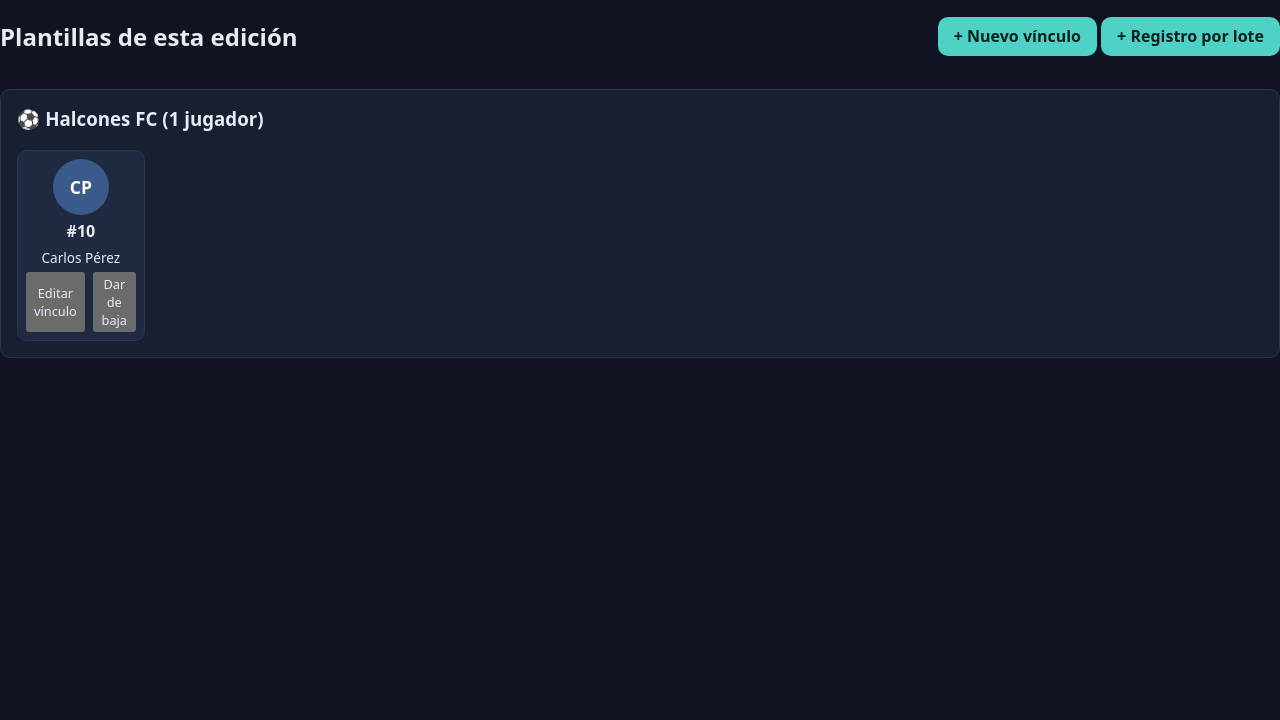
Scenario: PlantillasDelTorneoPage — grid de tarjetas (Design sección D) › click en una tarjeta abre el Perfil de Jugador editable en un modal
Click the button "CP #10 Carlos Pérez" at (81, 213), box [26,158,136,267]
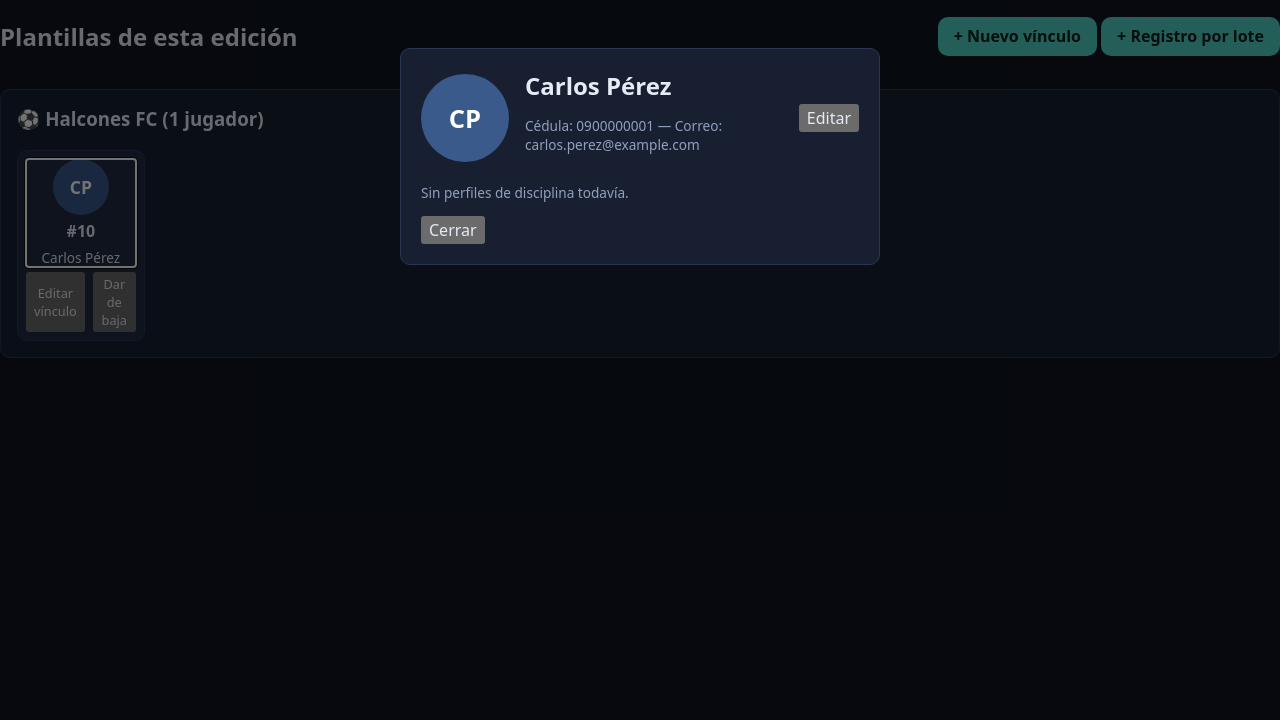
Now the text "Cédula: 0900000001 — Correo: carlos.perez@example.com" is shown, box [525,116,722,154]
Now the button "Editar" is shown, box [799,104,859,132]
